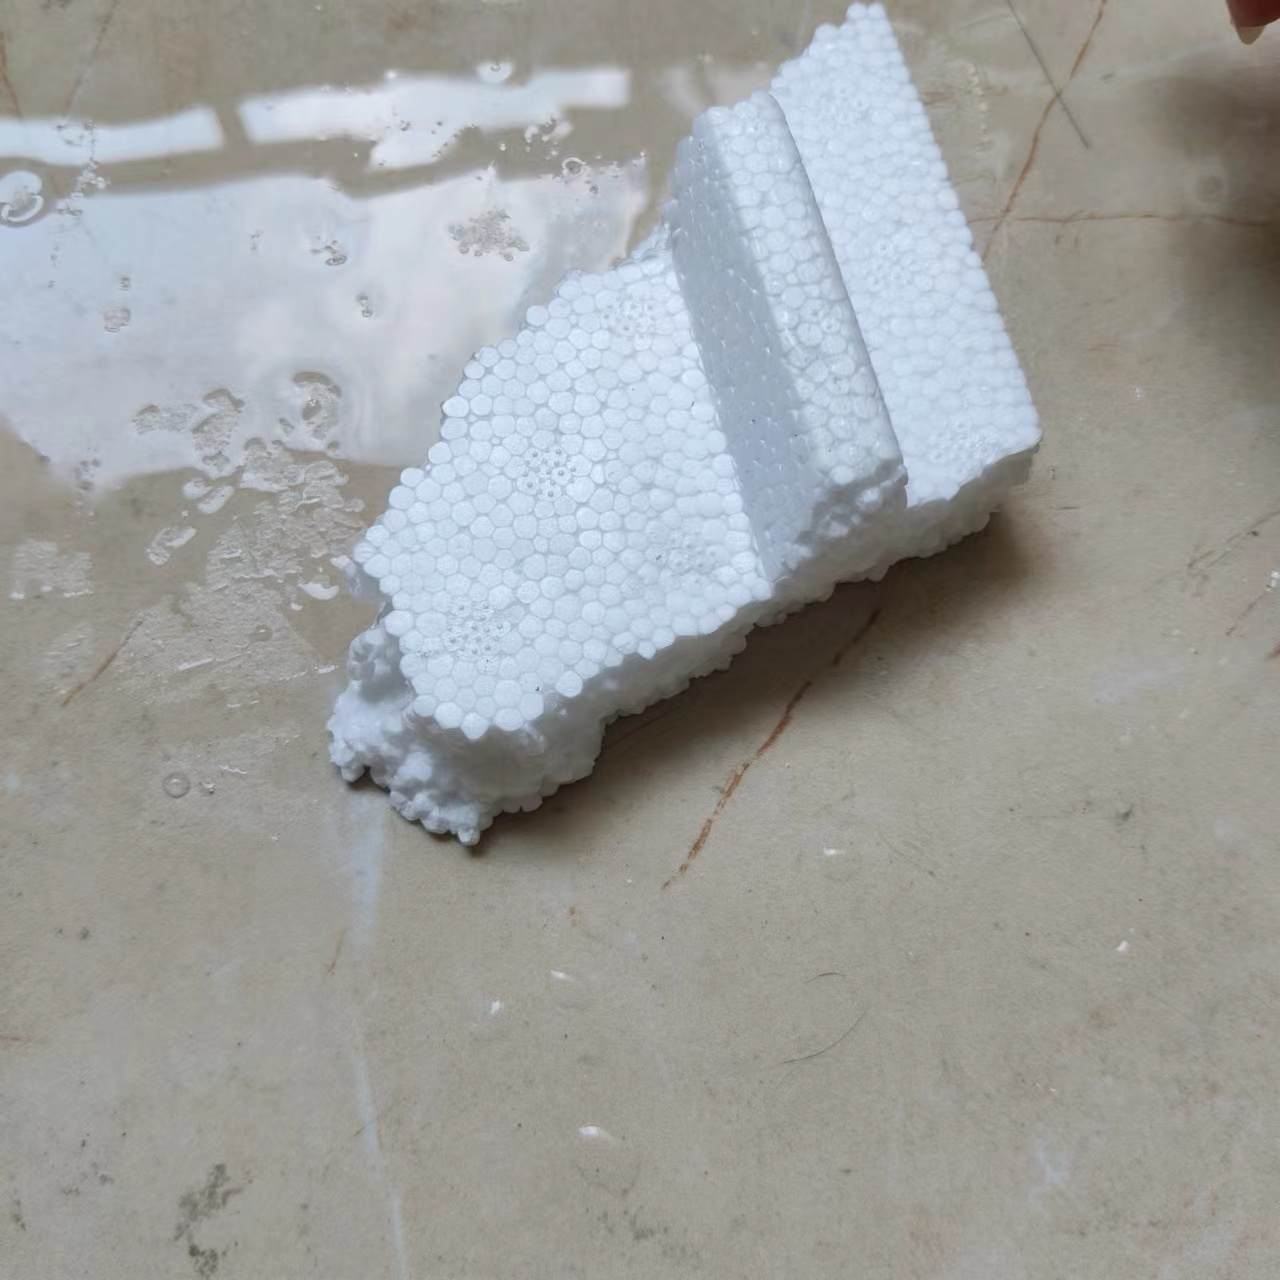5/可回收垃圾/泡沫: (321, 1, 1041, 853)
